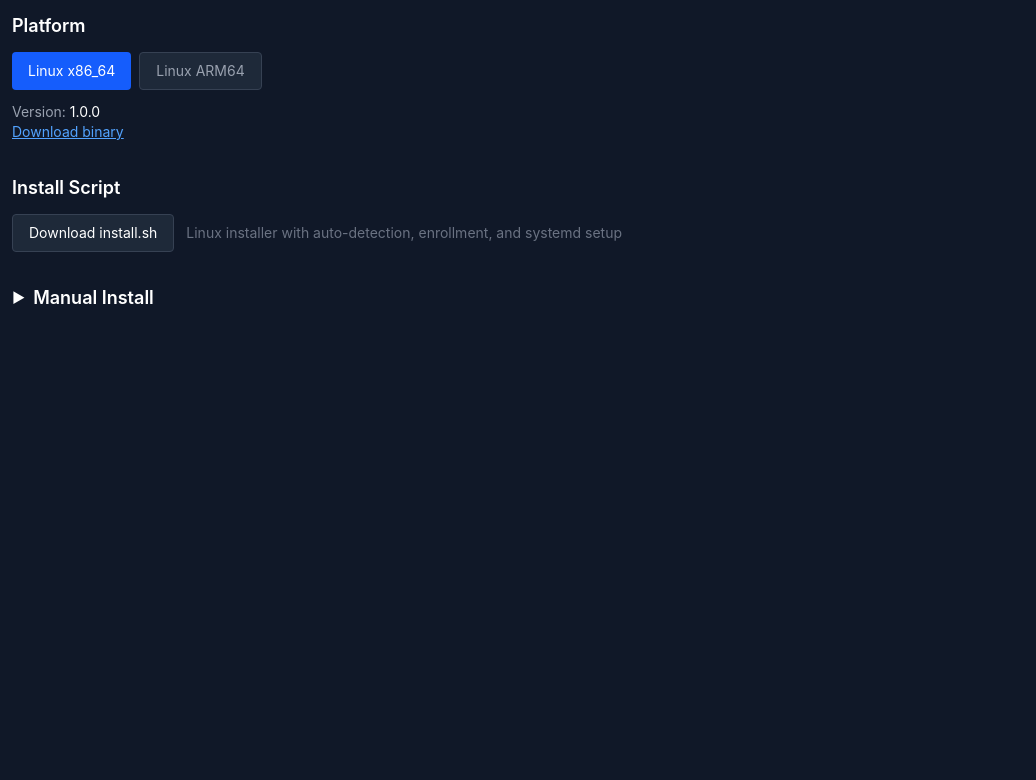
Test case: InstallInstructions › toggles manual install section
Check: the text "download the agent binary" is not shown
Click the button "▶ Manual Install" at coordinates (83, 298), box [12,284,154,312]
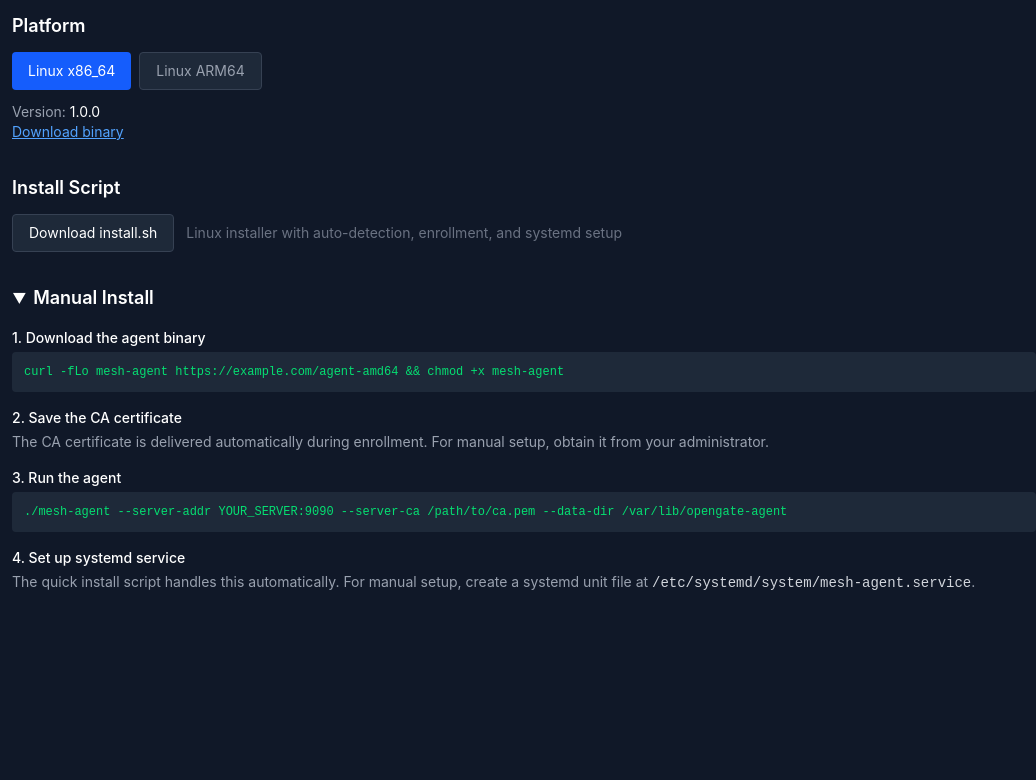
Check: the heading "1. Download the agent binary" is shown, box [12,329,206,346]
